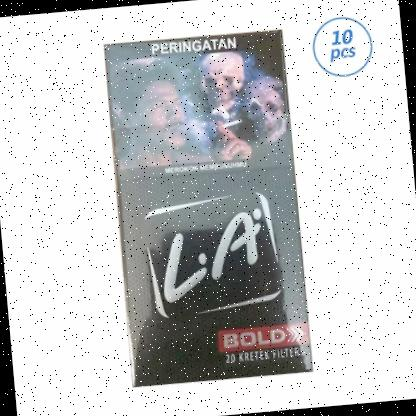bungkus rokok: (96, 22, 322, 389)
